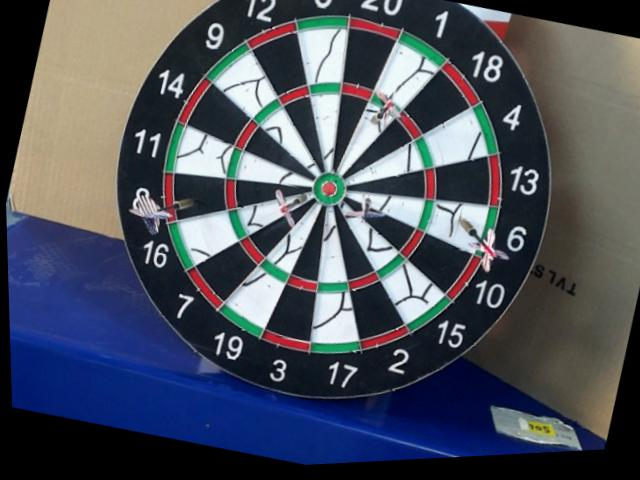single_1: (338, 105, 389, 174)
single_16: (237, 200, 285, 235)
single_6: (421, 203, 487, 251)
single_8: (175, 176, 222, 217)
